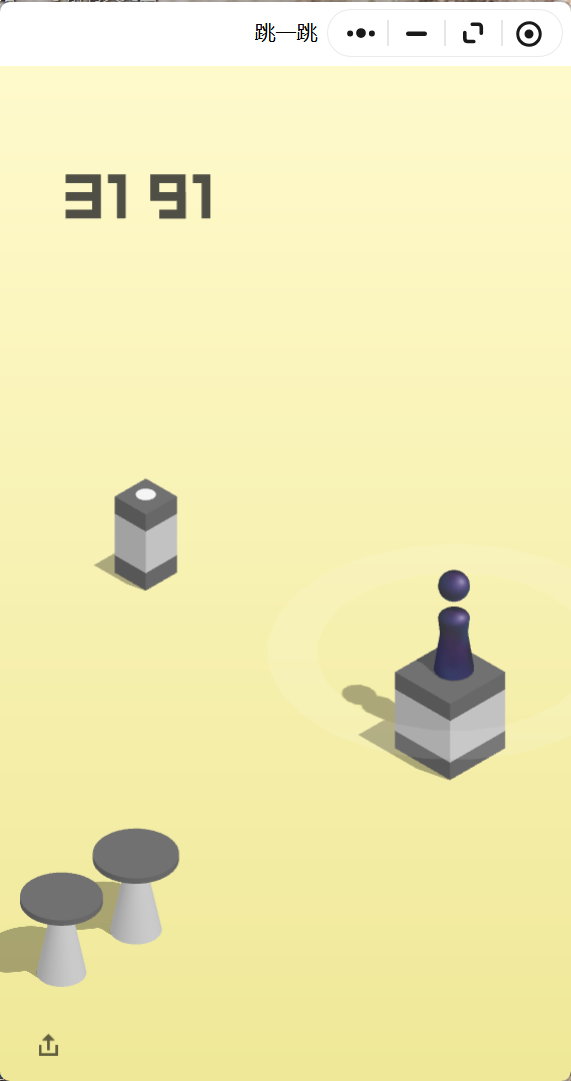piece: (439, 570, 469, 676)
target: (115, 479, 177, 515)
